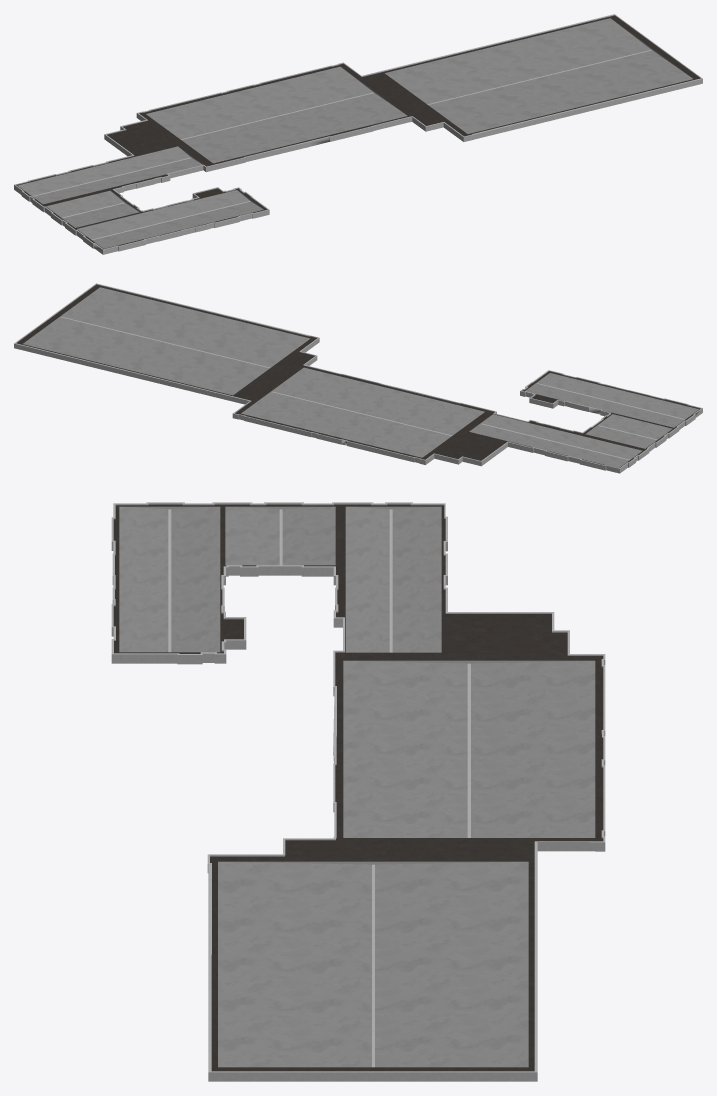
The model's file is envRoof.fbx.
3 renders of one model, top to bottom at view 1: azimuth 30°, elevation 25°; view 2: azimuth 150°, elevation 25°; view 3: azimuth 270°, elevation 25°, orthographic. The views are drawn at different scales.
Parts seen in each view (by area): view 1: envRoof; view 2: envRoof; view 3: envRoof.
Part boxes in pixels (x1=…): envRoof: x1=14, y1=14, x2=702, y2=254; envRoof: x1=14, y1=283, x2=702, y2=473; envRoof: x1=111, y1=502, x2=605, y2=1081.
Bounding box in the file's own units: 10722 × 81.7 × 3928.
Materials: 3 (3 with a texture image).
